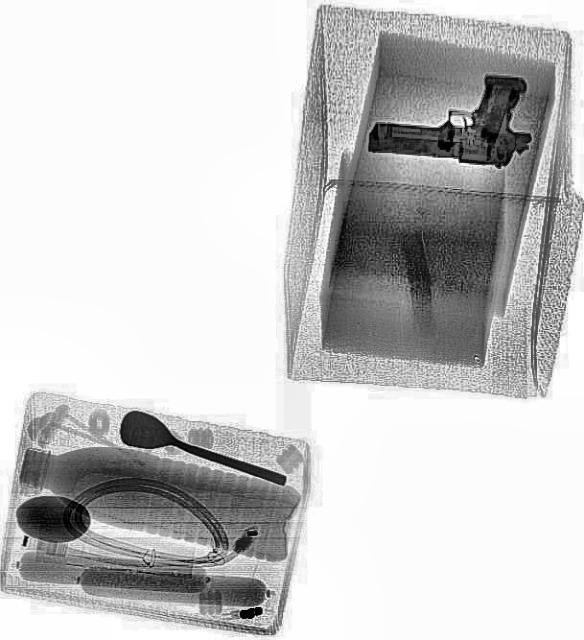Gun: (366, 64, 534, 168)
